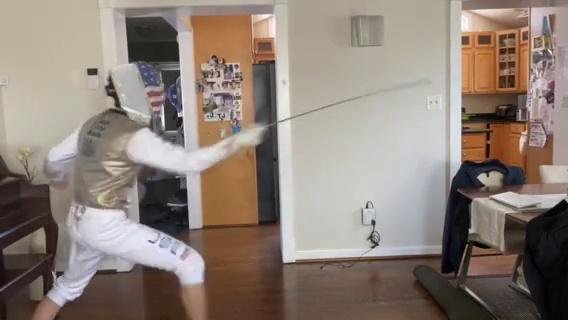blade-guard: (259, 114, 272, 138)
blade-tip: (386, 80, 432, 92)
fencing-blade: (242, 80, 436, 142)
